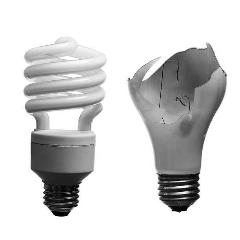lightbulb: (127, 42, 227, 213), (23, 36, 107, 216)
